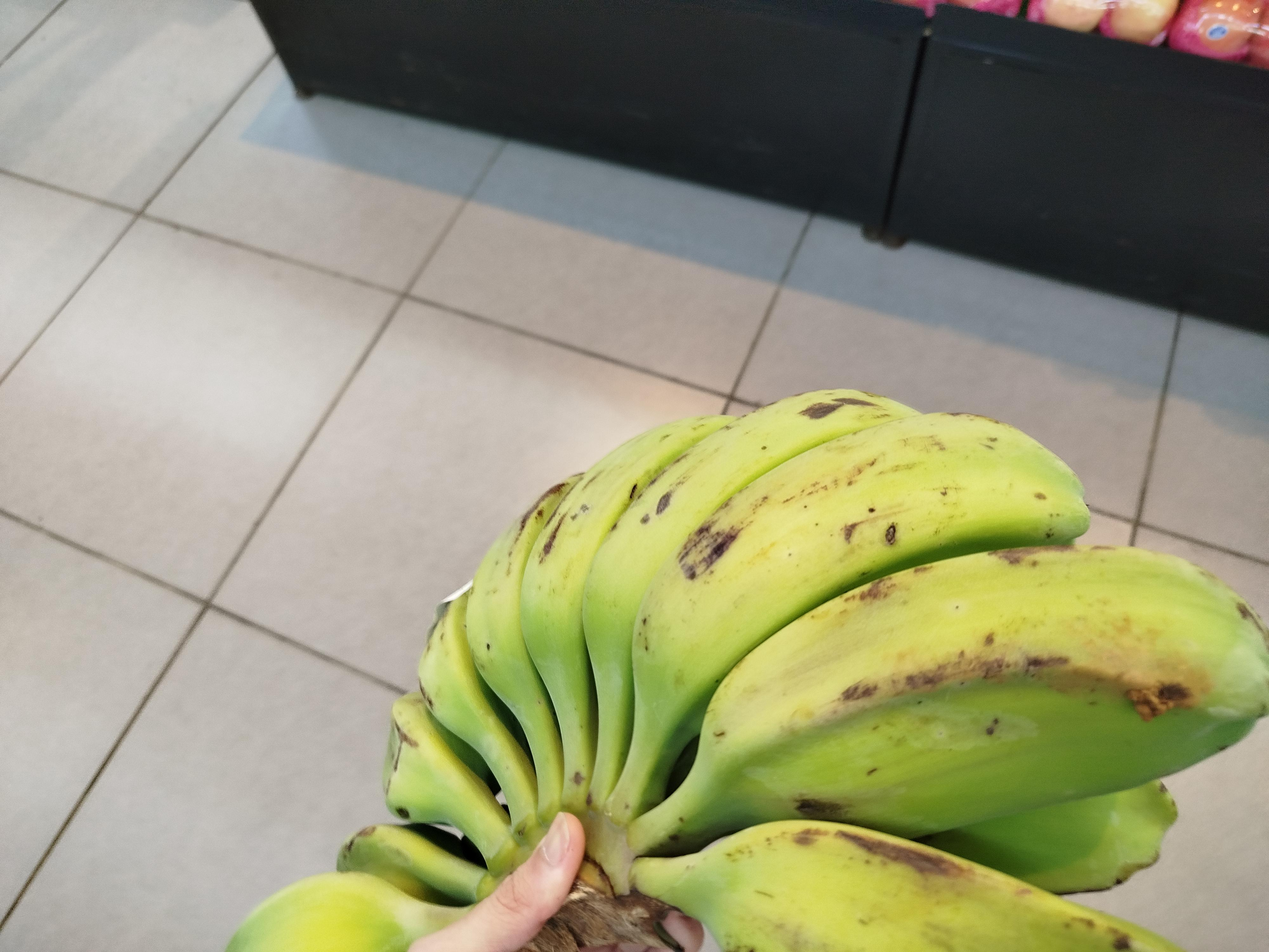underripe: (228, 389, 1269, 952)
